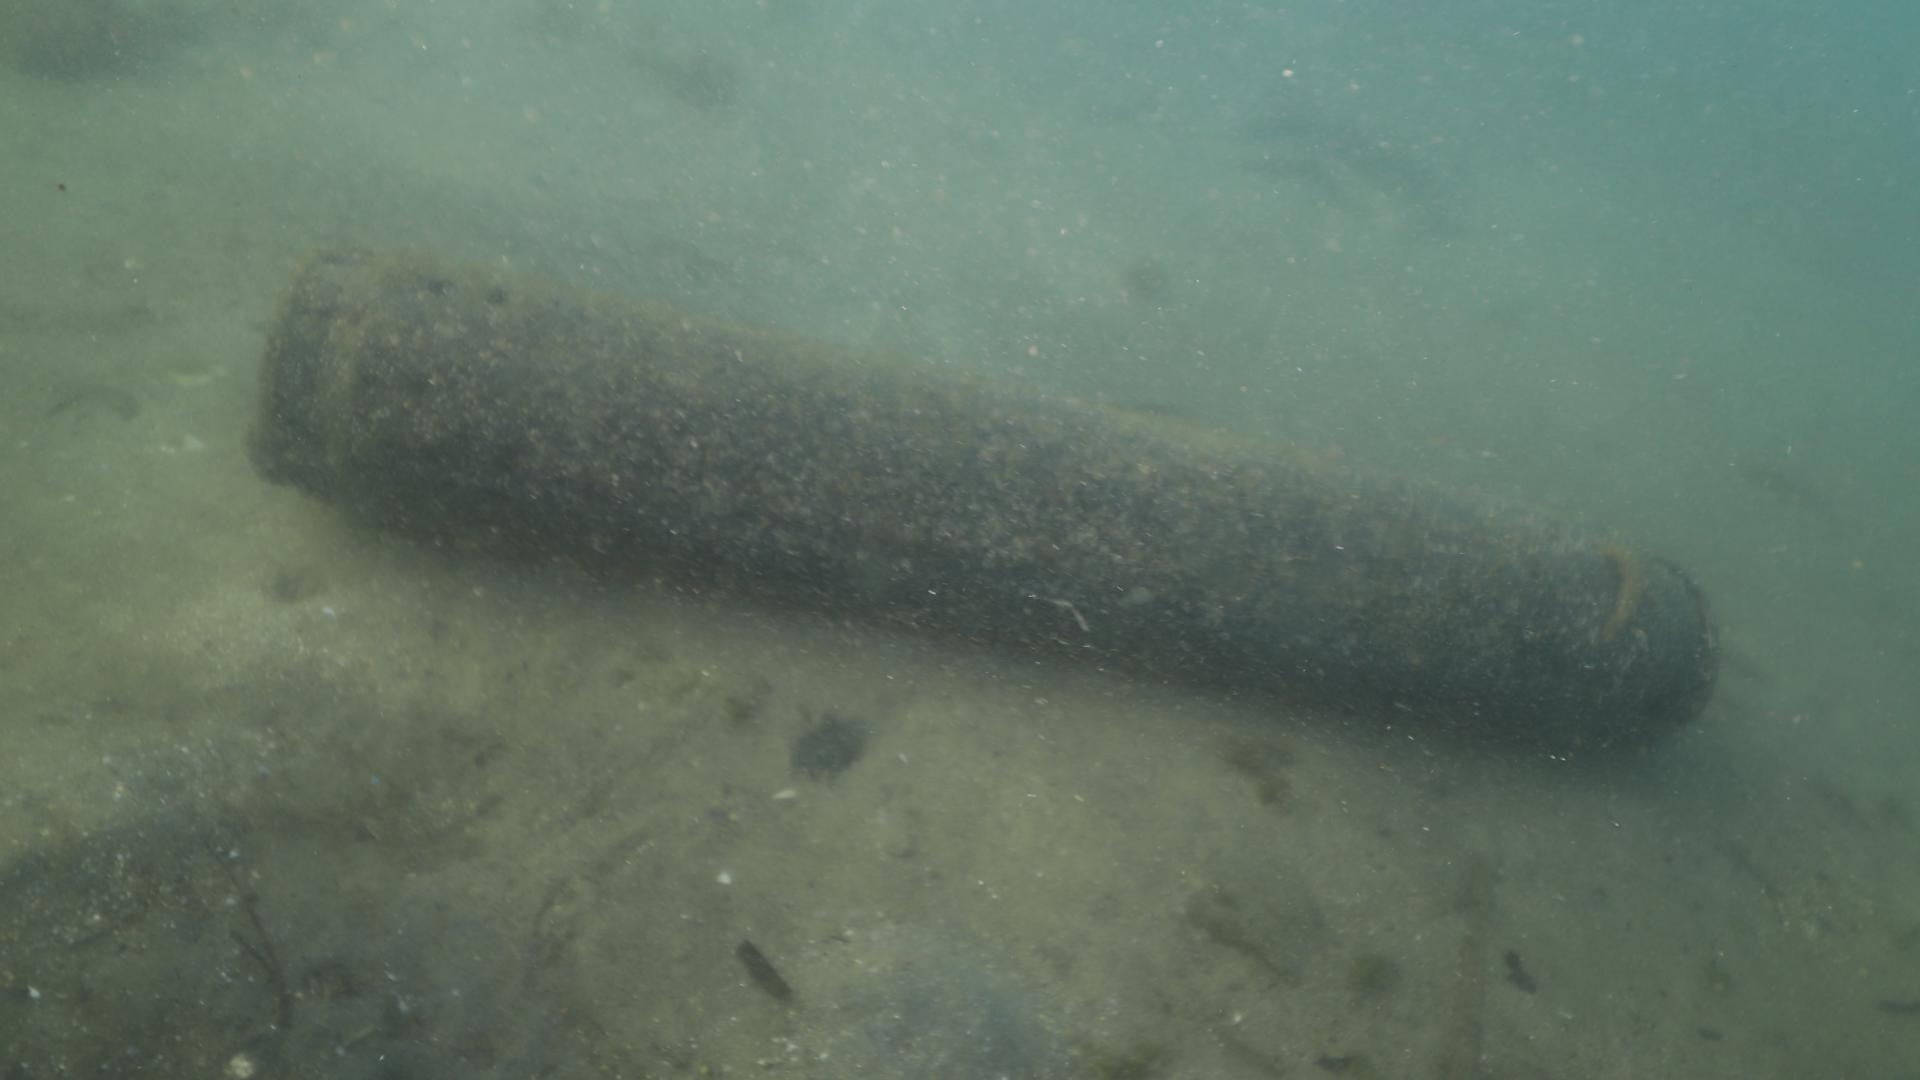eel fish trap: (237, 231, 1726, 770)
